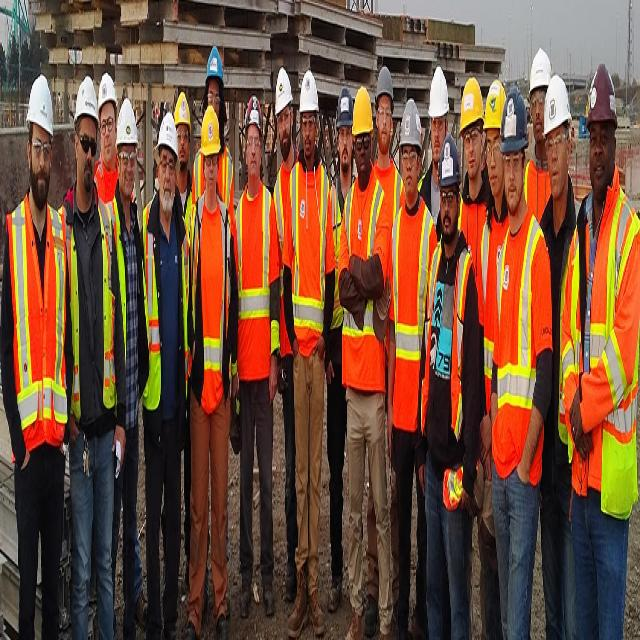Reflective-Jacket: (559, 191, 640, 498), (4, 195, 69, 455), (333, 178, 395, 426), (490, 212, 545, 474), (422, 243, 479, 488), (101, 180, 150, 412), (140, 195, 186, 412), (392, 191, 432, 430), (290, 155, 330, 350), (235, 185, 274, 369), (197, 195, 228, 403)
Safety-Helmet: (493, 84, 534, 159), (584, 57, 618, 128), (542, 68, 573, 142), (26, 67, 55, 137), (73, 67, 100, 129), (460, 70, 484, 135), (483, 73, 506, 135), (528, 37, 552, 95), (115, 90, 138, 150), (428, 58, 449, 121), (400, 92, 422, 149), (156, 102, 178, 158), (352, 80, 373, 137), (440, 130, 460, 188), (200, 102, 222, 154), (300, 64, 320, 119), (274, 60, 293, 116), (98, 64, 118, 115), (243, 91, 263, 134), (374, 61, 394, 103), (336, 82, 354, 128), (205, 42, 224, 85), (175, 85, 191, 129)
